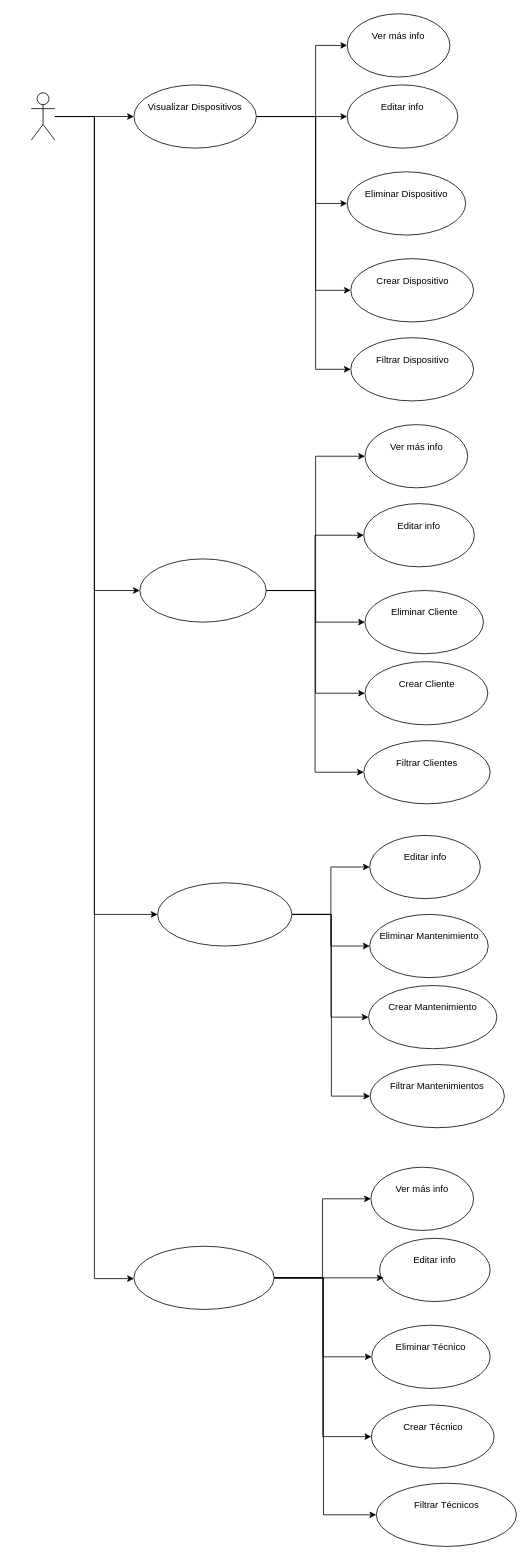
This 531x1560 diagram has some shape labels left out. The shapes that lost their labels are listed below. From the top down, each one's box as (x1, y1, x2, y2) in pixels, then its label:
(30, 92, 55, 140): Administrador
(139, 558, 266, 622): Visualizar Clientes
(157, 882, 292, 946): Visualizar Mantenimientos
(133, 1245, 274, 1309): Visualizar Técnicos
